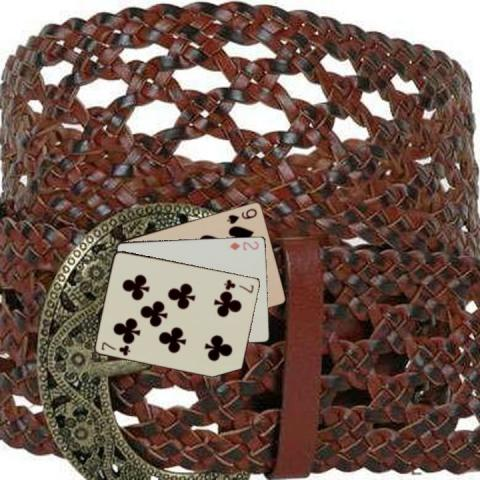2d: (227, 238, 260, 251)
7c: (99, 338, 132, 357), (222, 276, 256, 294)
9s: (224, 206, 259, 226)
